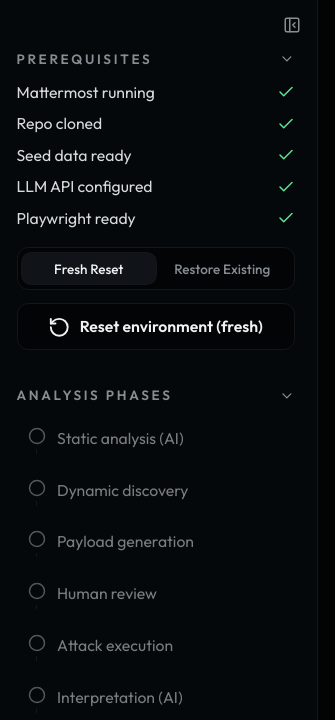
Test: Sidebar › switches to restore mode and shows the reusing-existing message when the target is up
Click the button "Restore existing": (222, 269) x1=156 y1=253 x2=289 y2=284
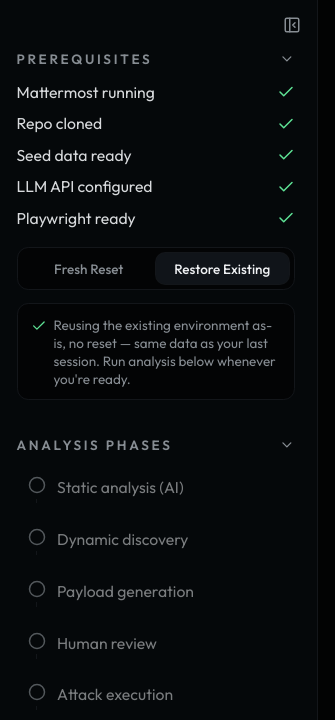
Check: the text "Reusing the existing environment as-is" is shown, box x1=54 y1=316 x2=276 y2=388
